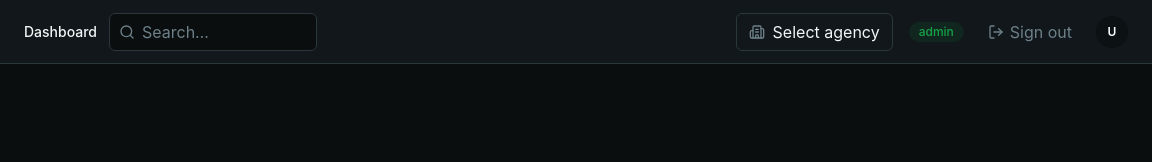
Scenario: Topbar navigation search › filters navigation targets by query, including keyword aliases
In the search field named "search navigation": [213, 32] box top-left (109, 12), bottom-right (317, 50), type "bill"
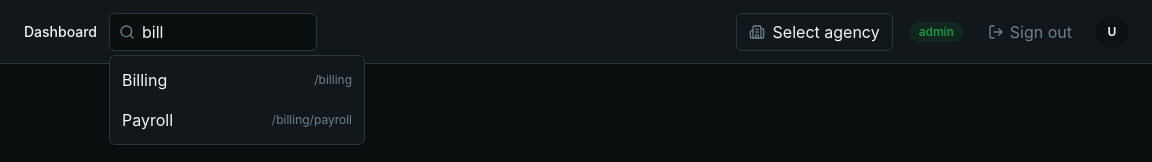
Expected: the button "Billing /billing" is shown, top-left (110, 60), bottom-right (364, 100)
Expected: the button "Payroll /billing/payroll" is shown, top-left (110, 100), bottom-right (364, 140)
